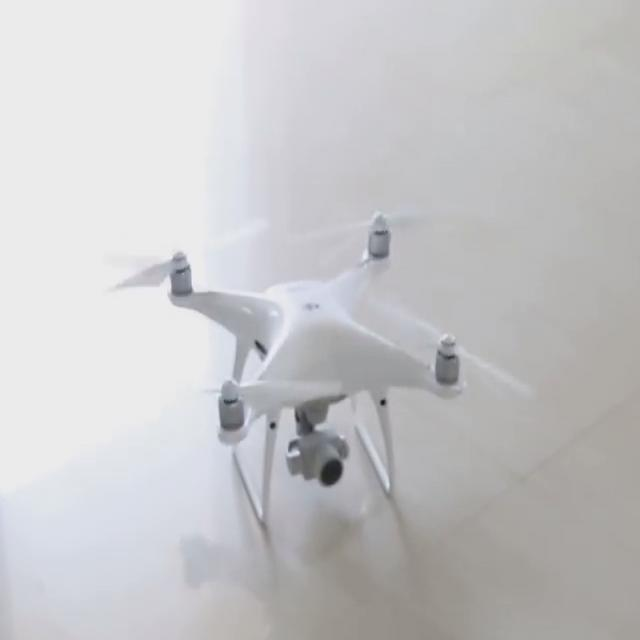drone: (122, 178, 484, 504)
